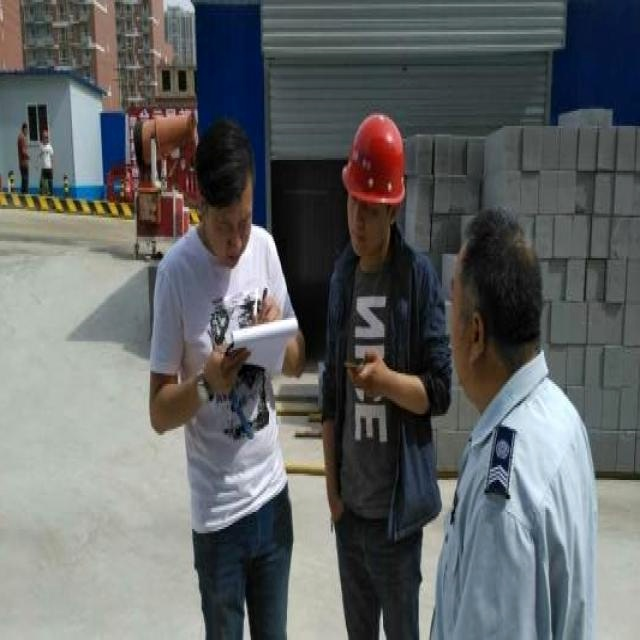Con_Casco: (344, 109, 405, 234)
Sin_Casco_Mascarrilla: (449, 210, 539, 389), (200, 123, 256, 255)
